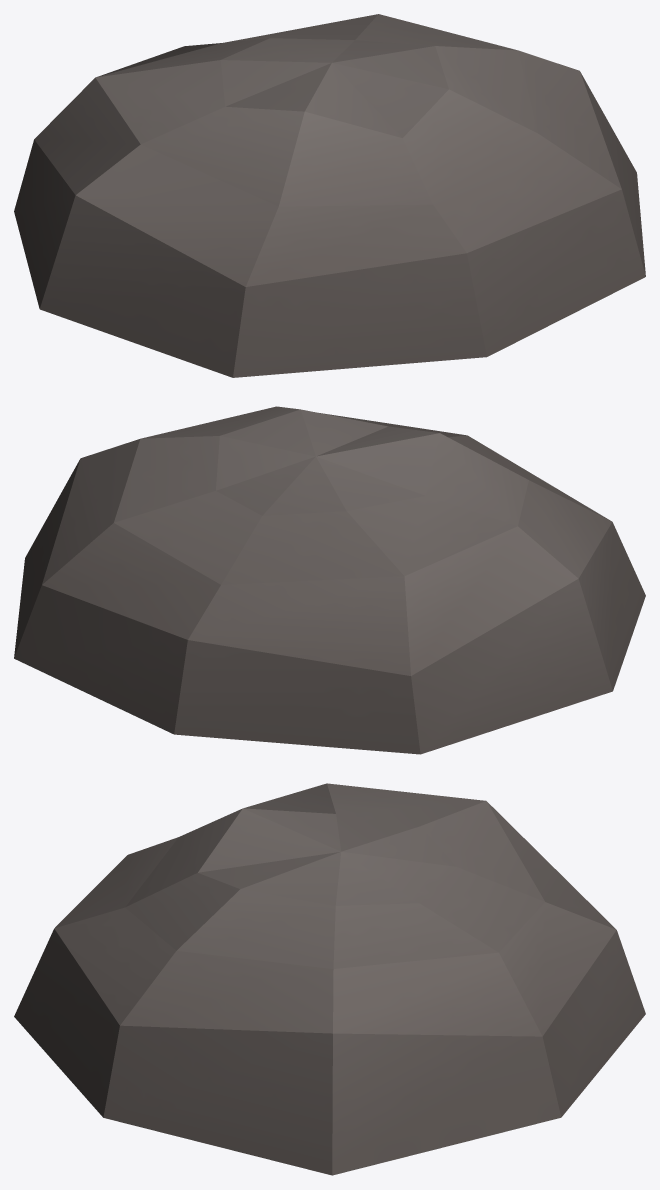
Rendered from pedra3.fbx.
The picture shows the model from 3 angles, top to bottom: view 1: azimuth 30°, elevation 25°; view 2: azimuth 150°, elevation 25°; view 3: azimuth 270°, elevation 25°; orthographic projection.
Parts seen in each view (by area): view 1: pSphere7; view 2: pSphere7; view 3: pSphere7.
Boxes of the visible parts, x1,y1,x2,y2 form: pSphere7: (14,14,645,377); pSphere7: (14,406,645,754); pSphere7: (14,783,645,1175).
Size of the model in its own units: 5.79 by 1.72 by 5.35.
